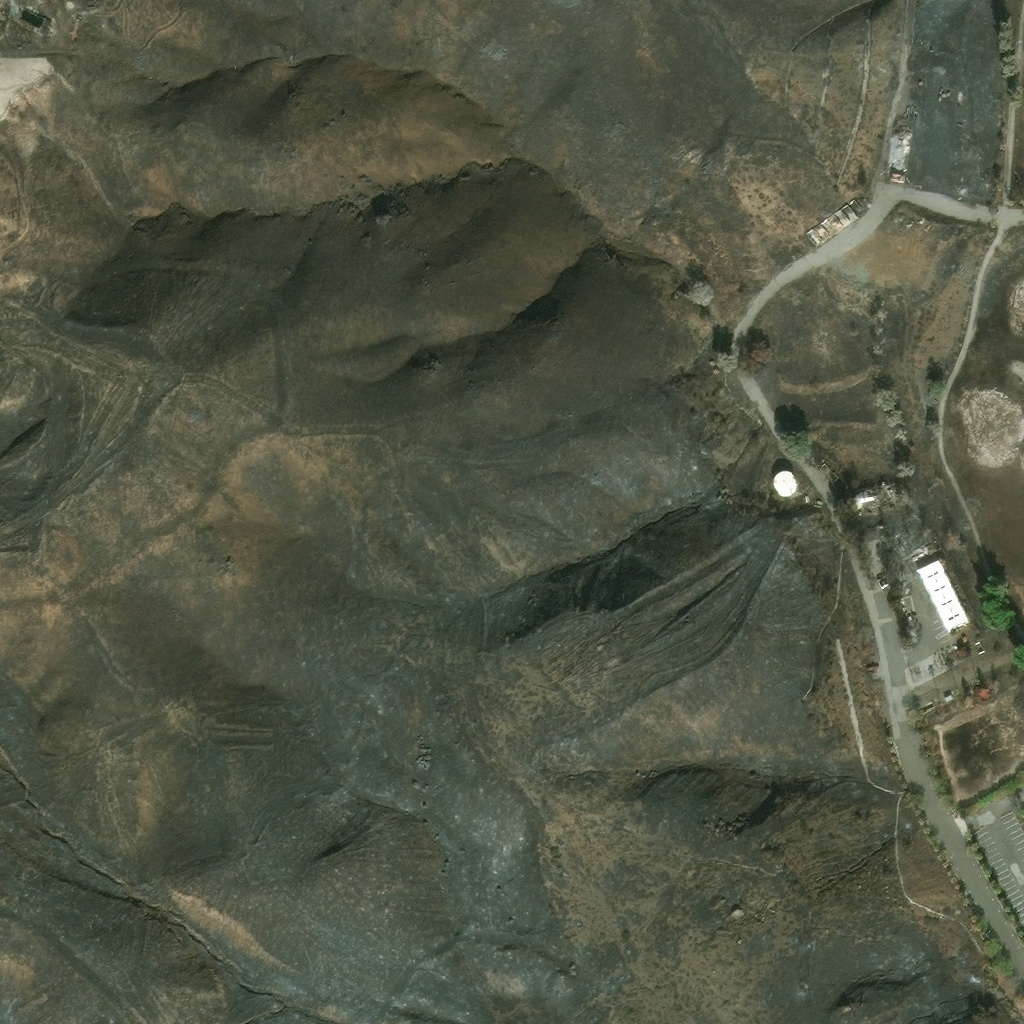0 no-damage: (915, 558, 971, 633), (771, 469, 797, 497), (919, 700, 935, 715), (943, 694, 953, 703), (964, 685, 973, 693)
3 destroyed: (804, 196, 867, 249), (855, 480, 906, 516), (888, 124, 913, 183), (895, 569, 908, 594), (876, 574, 890, 589), (906, 618, 916, 636), (11, 3, 19, 18)
